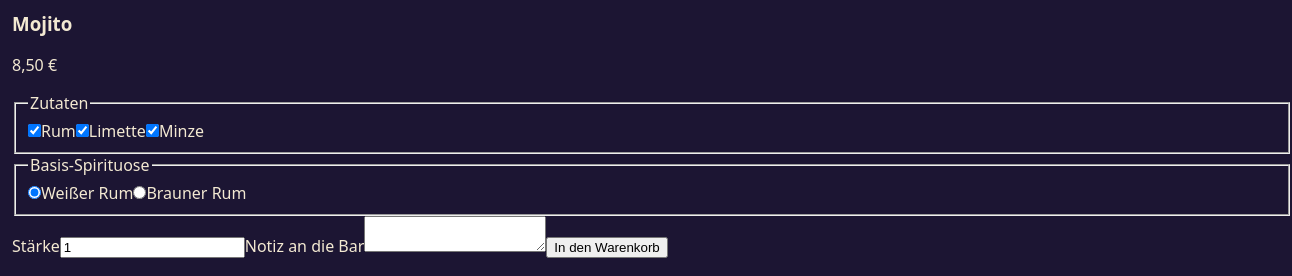
Scenario: Konfigurator › Stärke auf 2 erhöhen verdoppelt den angezeigten Einzelpreis → 17,00 €
Replace the text in the number field labelled "Stärke" with "2" at (152, 247), box top-left (60, 237), bottom-right (245, 258)
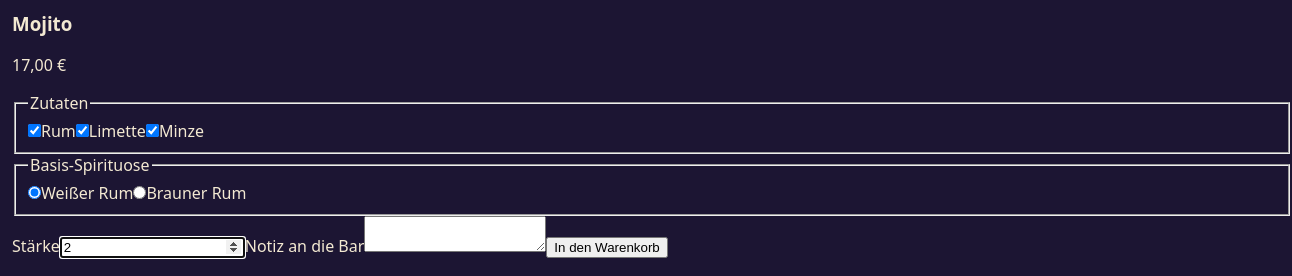
Result: the text "17,00 €" is shown at top-left (12, 54), bottom-right (66, 76)
